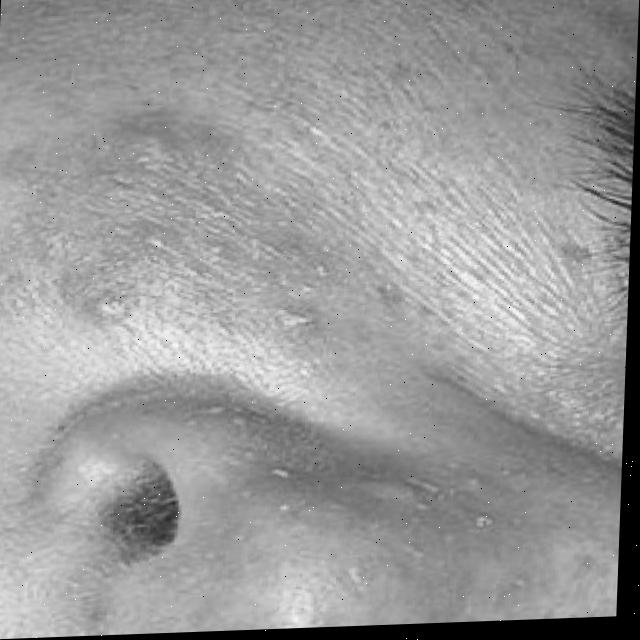Rosacea: (0, 100, 397, 398), (88, 387, 512, 636)
